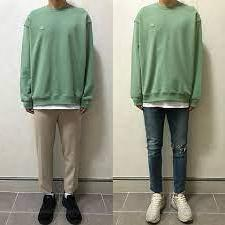sweater: (18, 4, 98, 111), (128, 2, 205, 108)
trousers: (33, 108, 83, 197), (143, 106, 192, 195)
